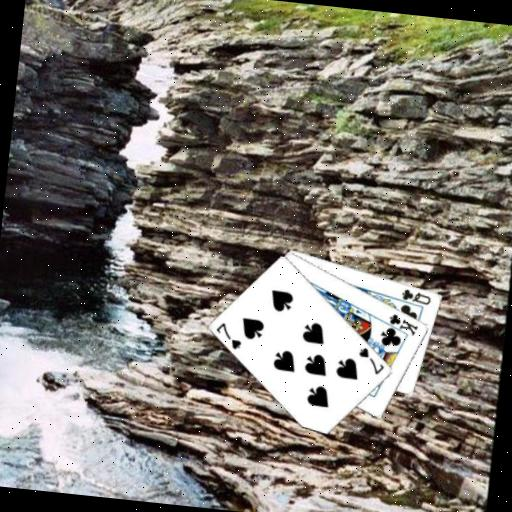7S: (354, 344, 388, 377), (212, 319, 246, 352)
KC: (380, 310, 421, 339)
QC: (398, 285, 434, 307)
